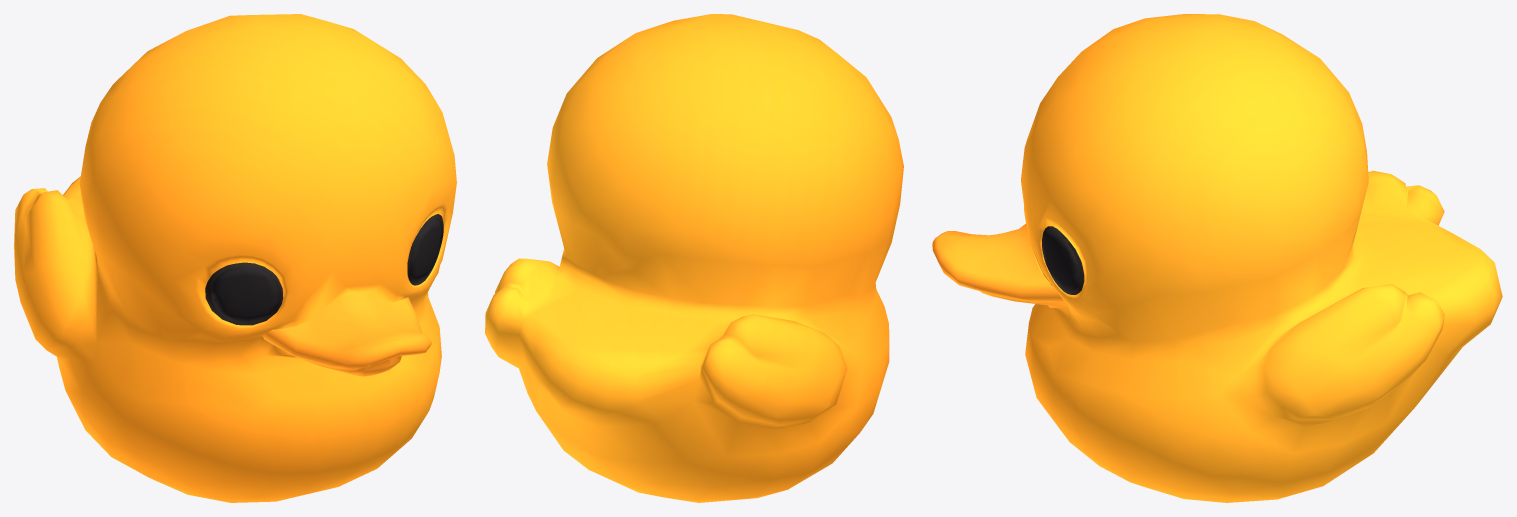
File: copilot_rubber_duck.glb
The picture shows the model from 3 angles, left to right: view 1: azimuth 30°, elevation 25°; view 2: azimuth 150°, elevation 25°; view 3: azimuth 270°, elevation 25°; orthographic projection. The views are drawn at different scales.
Visible parts, largest first — view 1: Rubber_Duck_body, Rubber_Duck_eyes; view 2: Rubber_Duck_body; view 3: Rubber_Duck_body, Rubber_Duck_eyes.
Part boxes in pixels (<box>): Rubber_Duck_body: <box>14,14,456,502</box>; Rubber_Duck_eyes: <box>205,214,443,325</box>; Rubber_Duck_body: <box>485,14,903,502</box>; Rubber_Duck_body: <box>932,14,1502,502</box>; Rubber_Duck_eyes: <box>1042,226,1084,294</box>.
Size of the model in its own units: 1.55 by 1.94 by 2.28.
Materials: 2 (2 with a texture image).
